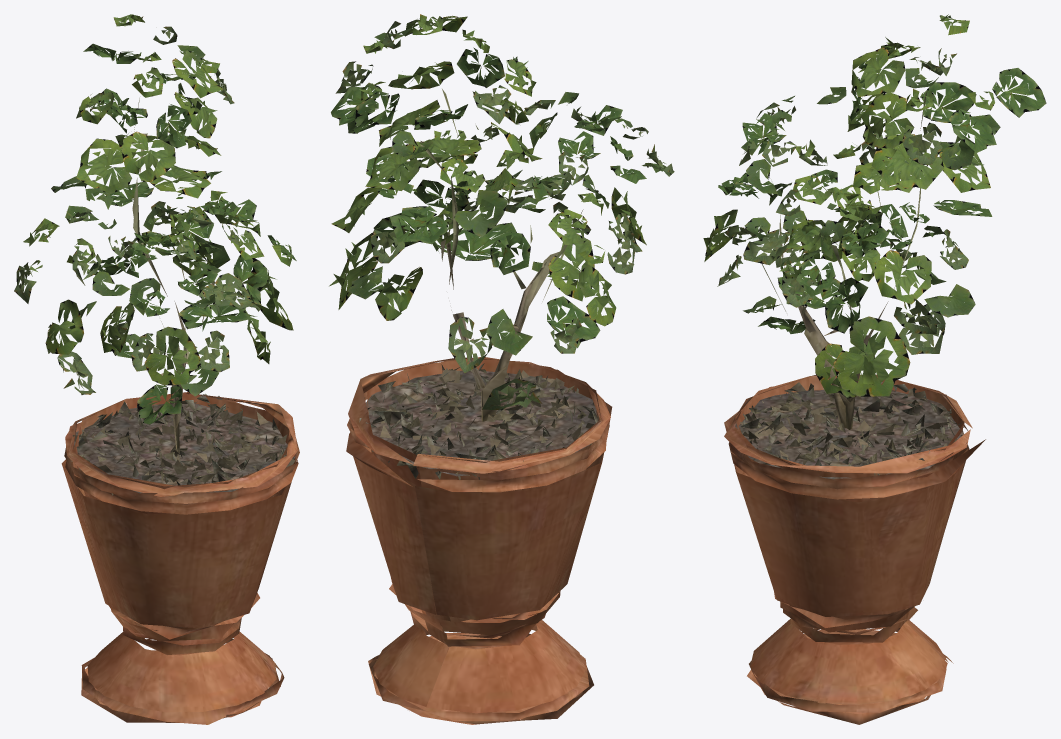
Rendered from ph_potted_plant_01.glb.
3 views of the same model, side by side, from view 1: azimuth 30°, elevation 25°; view 2: azimuth 150°, elevation 25°; view 3: azimuth 270°, elevation 25° (orthographic). The views are drawn at different scales.
Parts seen in each view (by area): view 1: potted_plant_01_stem; view 2: potted_plant_01_stem; view 3: potted_plant_01_stem.
Boxes of the visible parts, x1,y1,x2,y2 form: potted_plant_01_stem: (14,14,299,724); potted_plant_01_stem: (329,14,674,724); potted_plant_01_stem: (703,14,1046,724).
Size of the model in its own units: 0.5767 by 1.34 by 0.6322.
2 materials, 2 textured.
